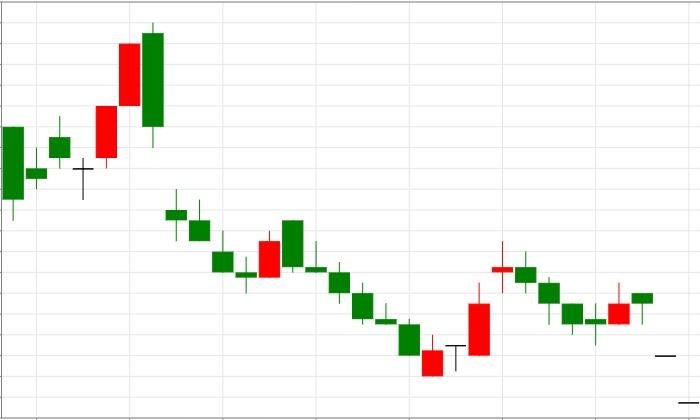bearish_engulfing_fall: (2, 23, 164, 221)
three_black_crows_fall: (422, 241, 583, 377)
